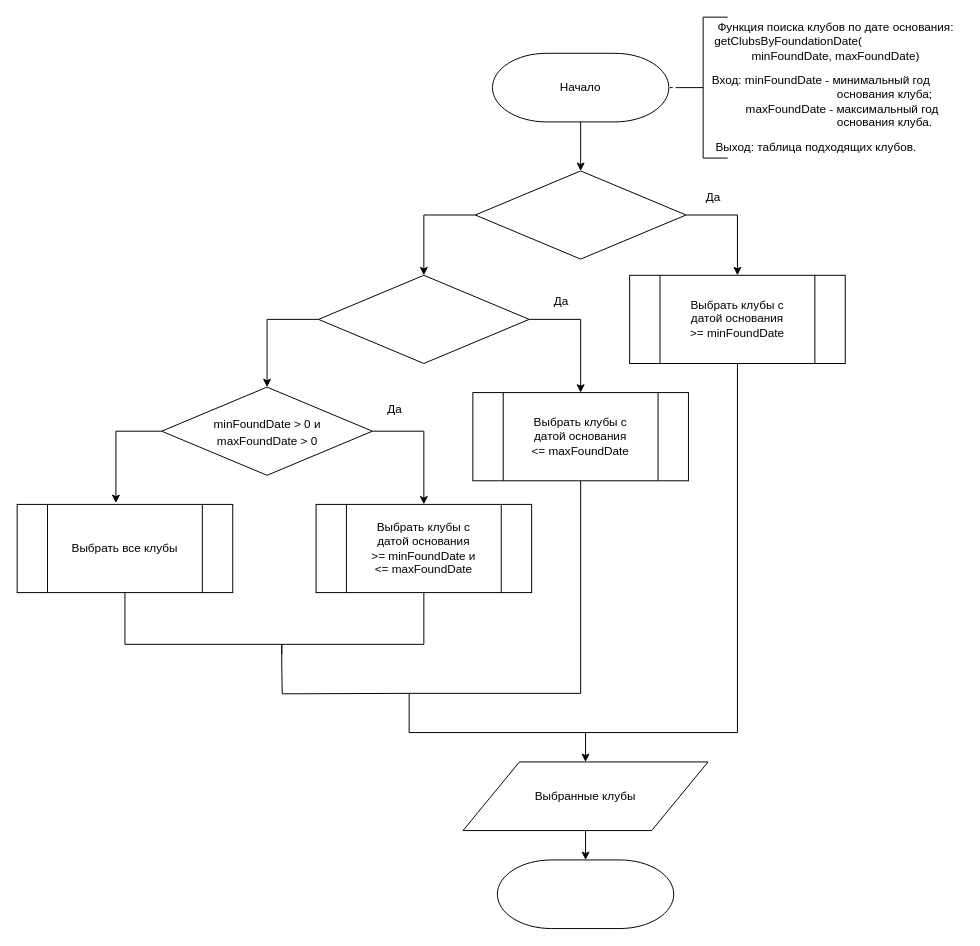
Some shapes in this 980 by 946 pixel diagram are drawn without their labels. Here are the shapes that lost their labels. From the top down, the centre of each, then its label:
pixel 580 214: minFoundDate > 0 и maxFoundDate = 0
pixel 423 318: minFoundDate = 0 и maxFoundDate > 0
pixel 585 894: Конец
